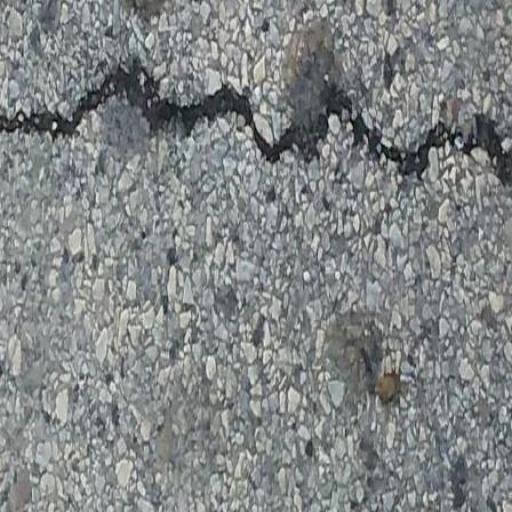spalling: (3, 33, 510, 206)
